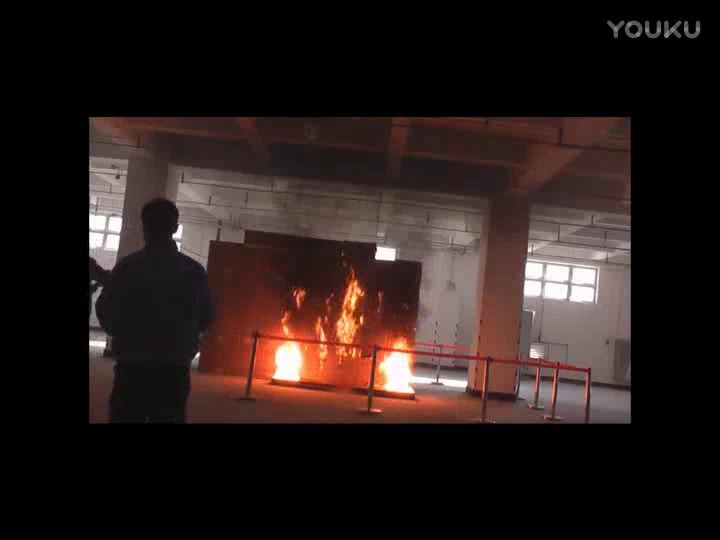fire: (330, 260, 372, 365), (376, 338, 420, 398), (274, 335, 306, 384)
